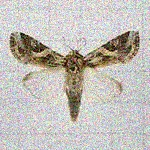Spodoptera litura: (9, 30, 140, 122)
